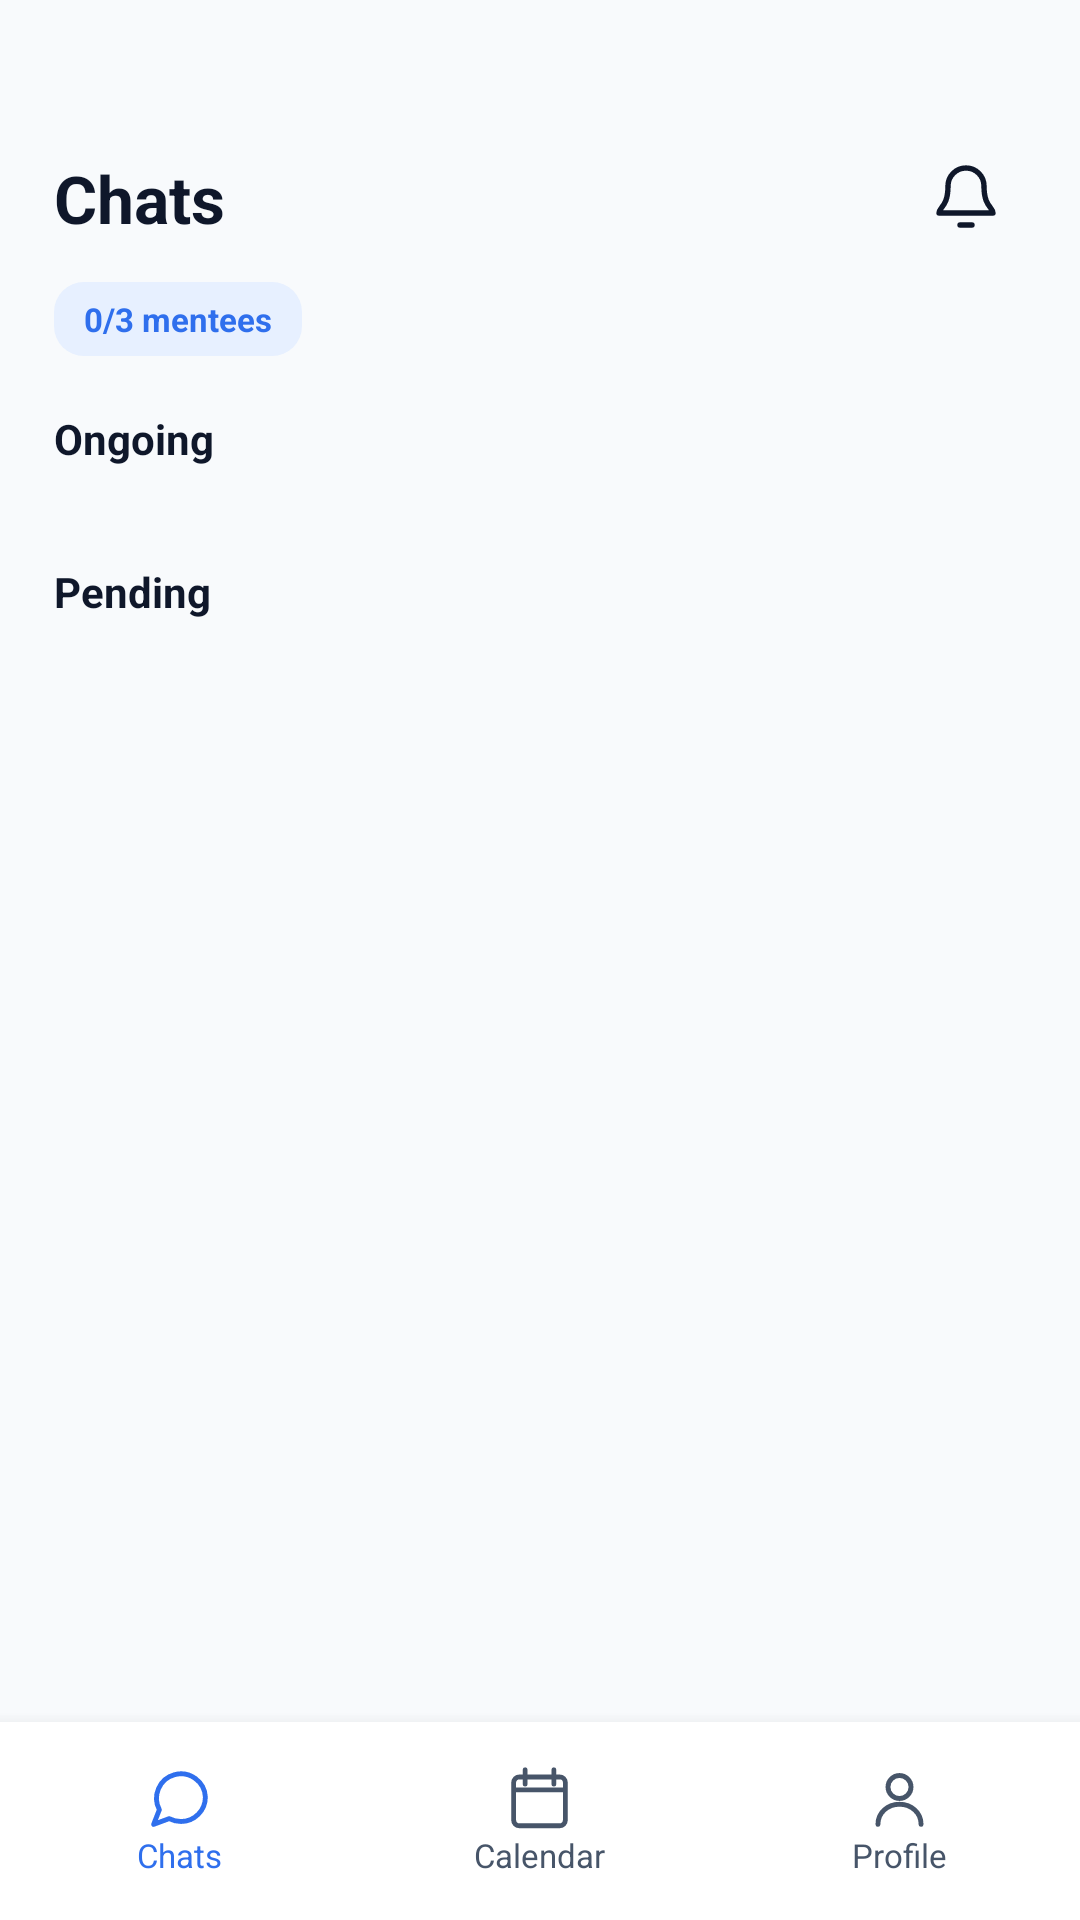

Icon bounding boxes for this 1080px×1920px phone screenshot, format (left=x1, top=y1, right=x2, bottom=y2):
notification: (left=936, top=165, right=996, bottom=228)
